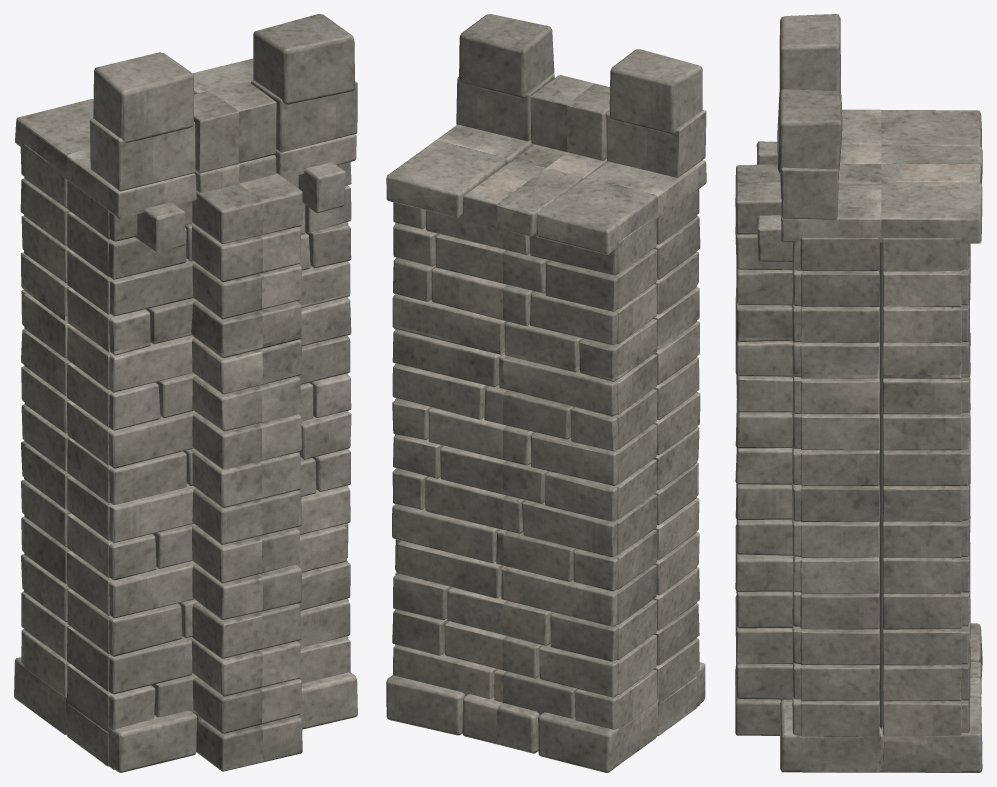
The model's file is wall_connections-LOD1.glb.
The picture shows the model from 3 angles, left to right: view 1: azimuth 30°, elevation 25°; view 2: azimuth 150°, elevation 25°; view 3: azimuth 270°, elevation 25°; orthographic projection. The views are drawn at different scales.
Visible parts, largest first — view 1: Bonded ashlar course.004, Bonded ashlar course.006, Bonded ashlar course.007, Bonded ashlar course.008, Bonded ashlar course, Bonded ashlar course.002, Walkway dressed coping; view 2: Bonded ashlar course.006, Bonded ashlar course.004, Bonded ashlar course.008, Bonded ashlar course.002, Walkway dressed coping, Bonded ashlar course, Bonded ashlar course.007; view 3: Bonded ashlar course, Bonded ashlar course.004, Bonded ashlar course.007, Bonded ashlar course.008, Bonded ashlar course.006, Walkway dressed coping, Bonded ashlar course.002, Masonry recessed structural backing.
Boxes of the visible parts, <box> form: Bonded ashlar course.004: <box>14,175,357,772</box>; Bonded ashlar course.006: <box>21,52,348,730</box>; Bonded ashlar course.007: <box>21,119,351,734</box>; Bonded ashlar course.008: <box>21,180,350,717</box>; Bonded ashlar course: <box>20,14,357,771</box>; Bonded ashlar course.002: <box>21,144,351,766</box>; Walkway dressed coping: <box>15,58,356,252</box>; Bonded ashlar course.006: <box>392,49,702,729</box>; Bonded ashlar course.004: <box>386,202,705,772</box>; Bonded ashlar course.008: <box>392,190,699,718</box>; Bonded ashlar course.002: <box>395,216,699,735</box>; Walkway dressed coping: <box>386,124,706,254</box>; Bonded ashlar course: <box>392,14,700,706</box>; Bonded ashlar course.007: <box>393,110,706,764</box>; Bonded ashlar course: <box>735,89,970,772</box>; Bonded ashlar course.004: <box>735,243,982,772</box>; Bonded ashlar course.007: <box>735,226,970,772</box>; Bonded ashlar course.008: <box>735,243,970,736</box>; Bonded ashlar course.006: <box>735,14,970,732</box>; Walkway dressed coping: <box>756,109,982,261</box>; Bonded ashlar course.002: <box>735,241,970,597</box>; Masonry recessed structural backing: <box>879,243,883,728</box>.
Bounding box in the file's own units: 2 × 5.45 × 1.87.
Materials: 8 (7 with a texture image).
